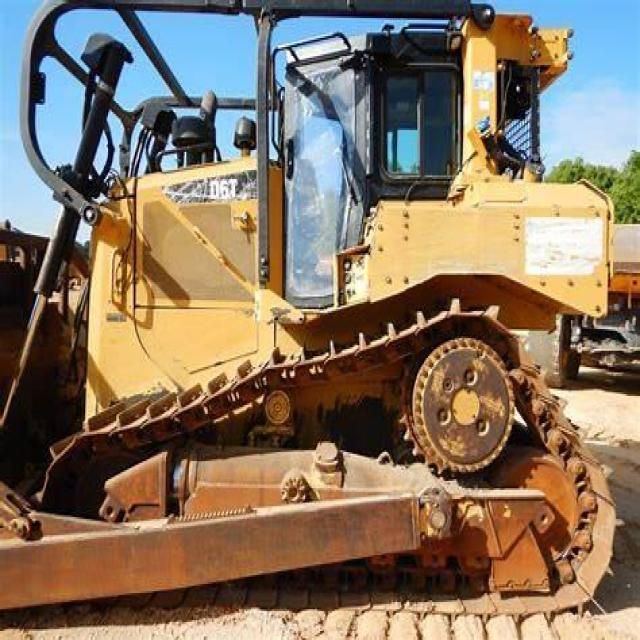buldozerpayloadergrader: (2, 0, 638, 624)
